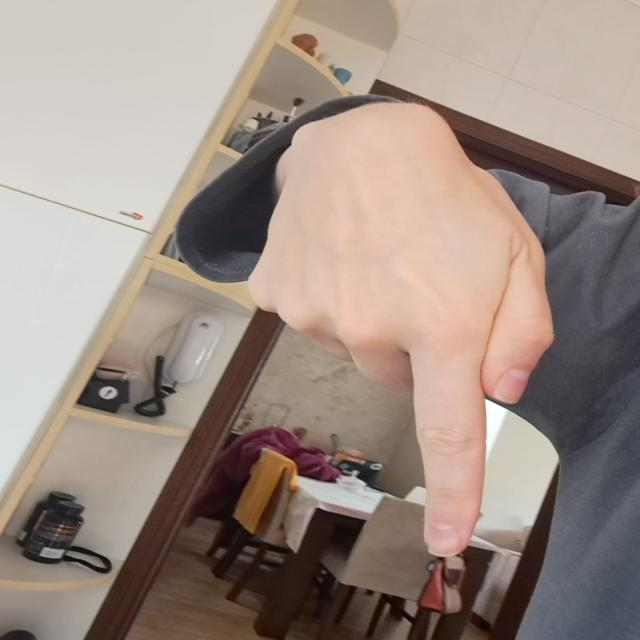Q: (244, 97, 563, 558)
